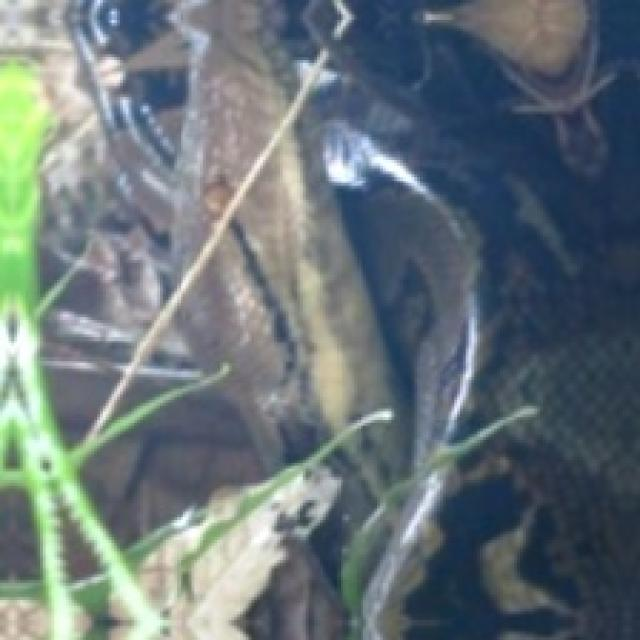reticulated python: (0, 0, 637, 637), (40, 0, 637, 637)
